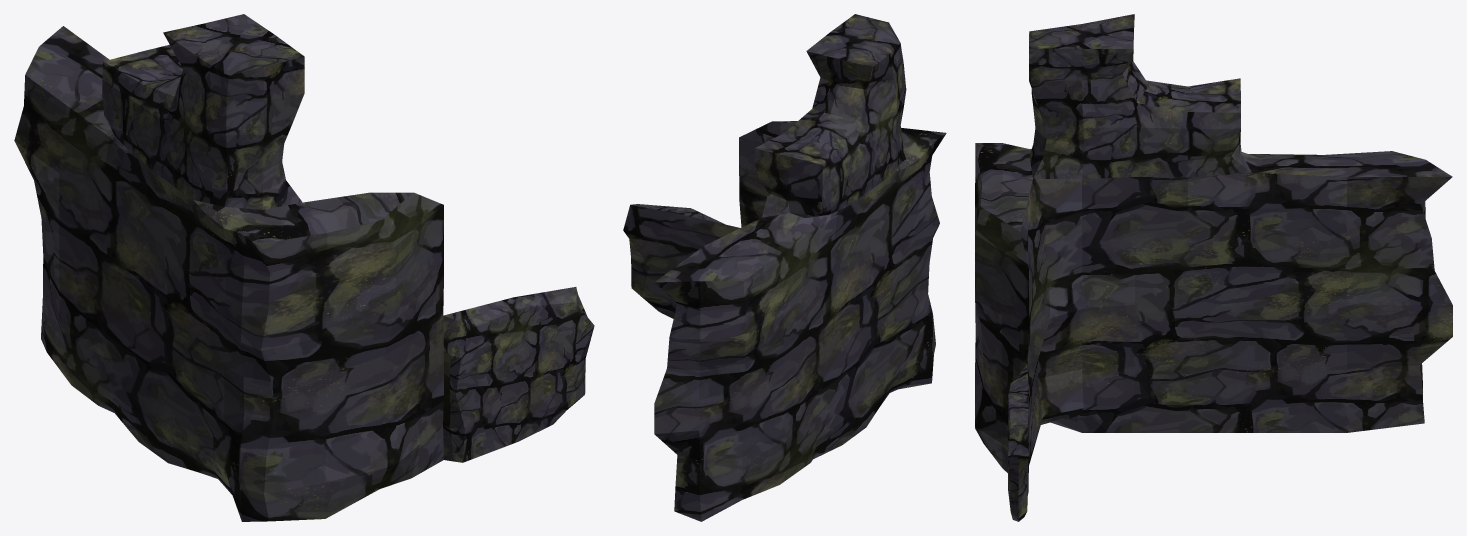
File: Ruins_corner_02.fbx
3 renders of one model, left to right at view 1: azimuth 30°, elevation 25°; view 2: azimuth 150°, elevation 25°; view 3: azimuth 270°, elevation 25°, orthographic. The views are drawn at different scales.
Visible parts, largest first — view 1: Ruins_Corner_02; view 2: Ruins_Corner_02; view 3: Ruins_Corner_02.
Part boxes in pixels (left/top/right/bottom): Ruins_Corner_02: left=14, top=14, right=594, bottom=521; Ruins_Corner_02: left=623, top=14, right=946, bottom=521; Ruins_Corner_02: left=975, top=14, right=1452, bottom=521.
Bounding box in the file's own units: 0.6464 × 0.75 × 0.8453.
1 material, 1 textured.
